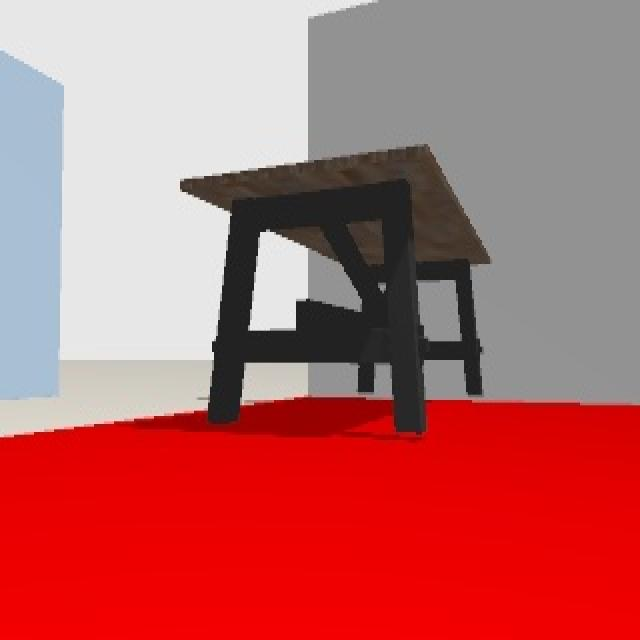dining: (182, 151, 486, 440)
